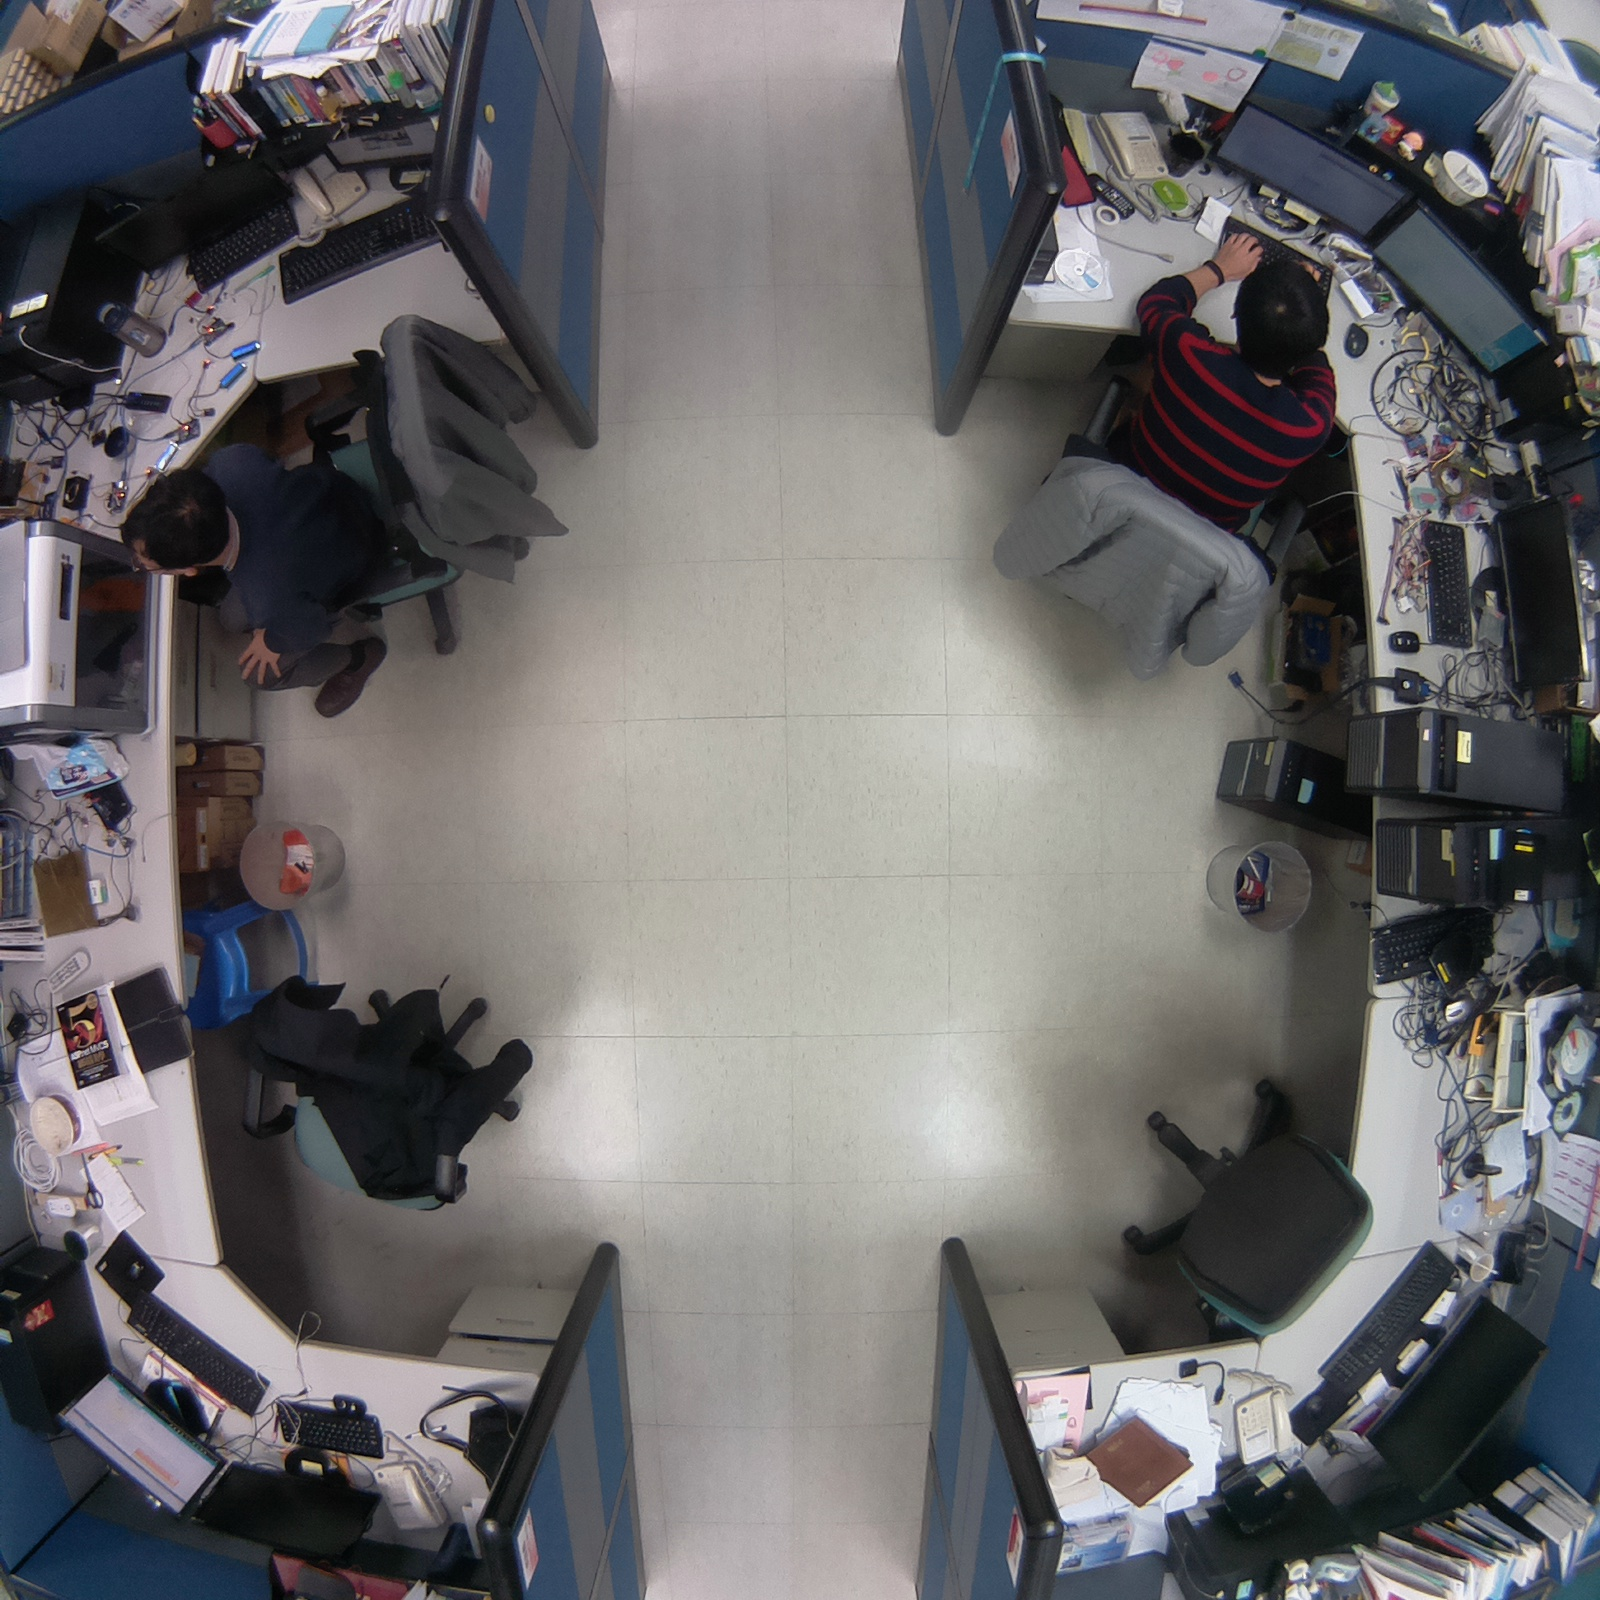chair: (212, 955, 573, 1237), (1112, 1052, 1391, 1358)
head: (106, 461, 232, 593), (1227, 257, 1336, 372)
sitting: (104, 293, 568, 734), (978, 232, 1355, 688)
